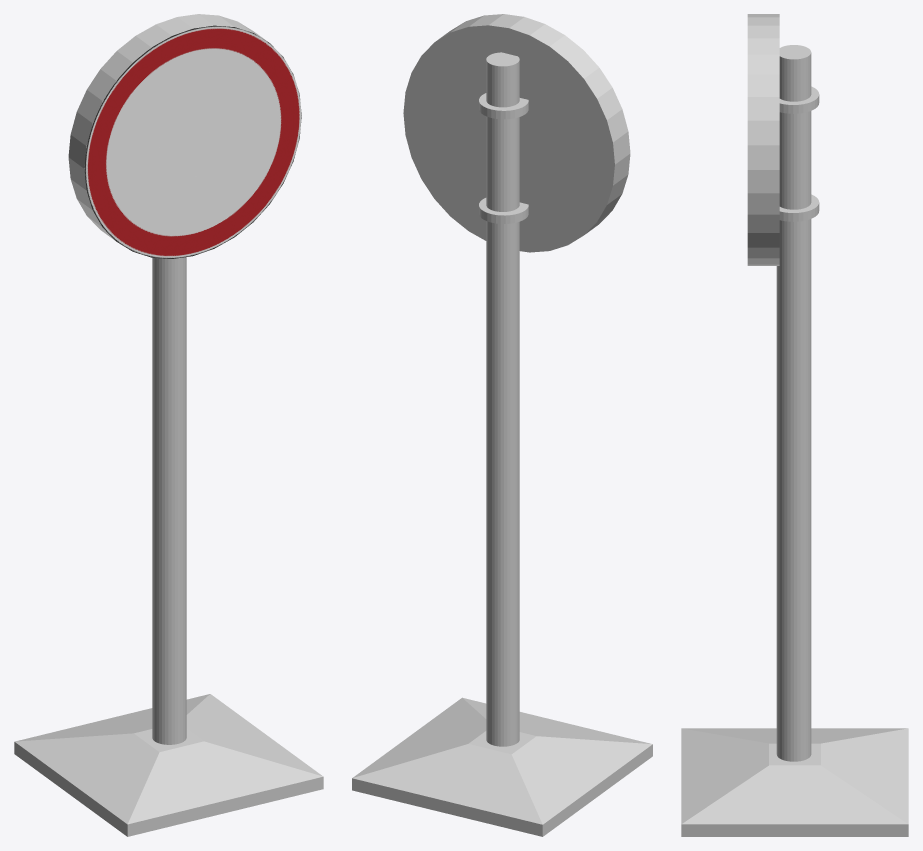
Rendered from giris_yasak.dae.
The picture shows the model from 3 angles, left to right: view 1: azimuth 30°, elevation 25°; view 2: azimuth 150°, elevation 25°; view 3: azimuth 270°, elevation 25°; orthographic projection. The views are drawn at different scales.
Parts seen in each view (by area): view 1: Cylinder.001; view 2: Cylinder.001; view 3: Cylinder.001.
Boxes of the visible parts, <box> form: Cylinder.001: <box>14,14,323,836</box>; Cylinder.001: <box>352,14,652,836</box>; Cylinder.001: <box>681,14,908,836</box>.
Size of the model in its own units: 0.83 by 0.7483 by 2.77.
2 materials, 1 textured.
